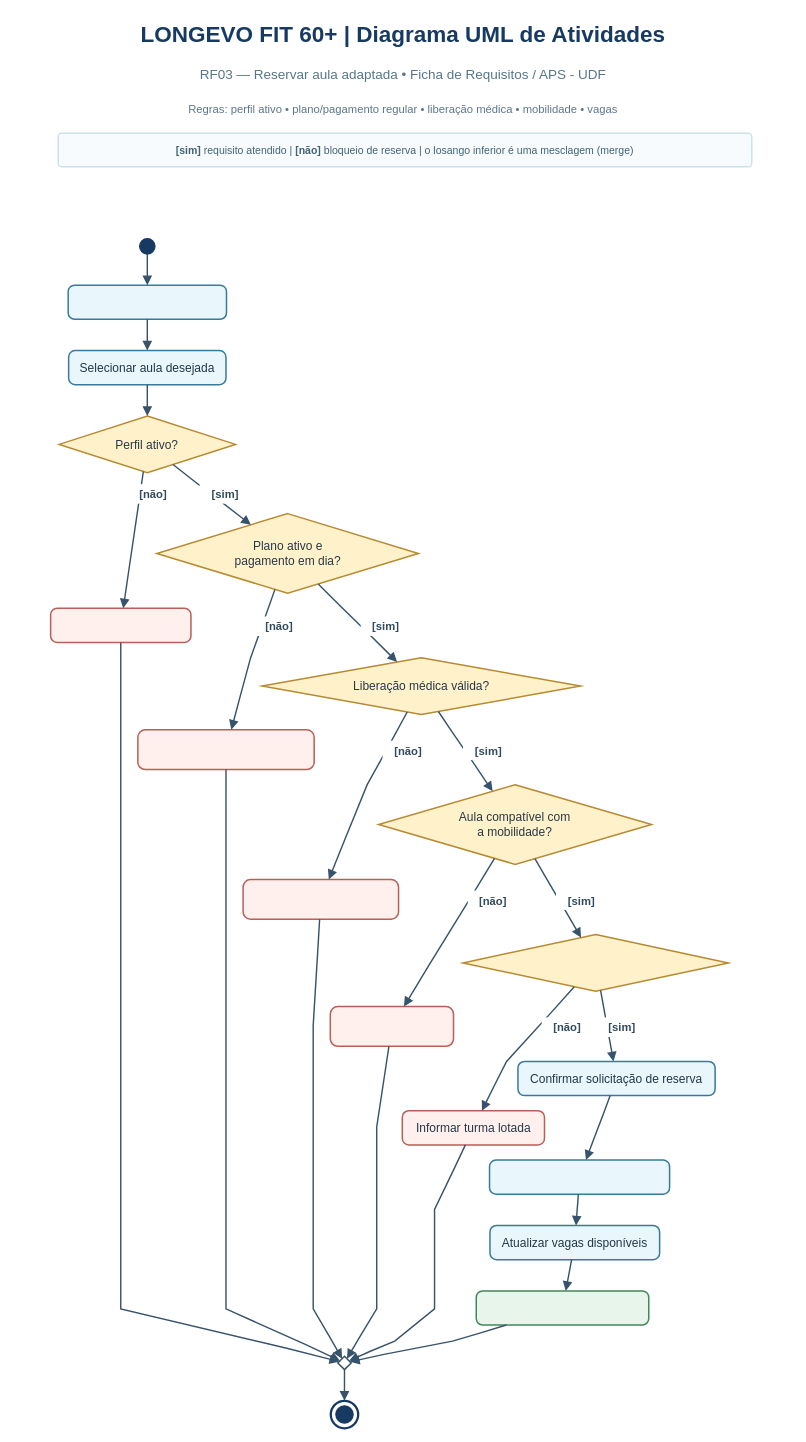
The diagram is 806 pixels wide and 1442 high, and some of its shapes have lost their labels. The box of each missing label's shape, as (x1, y1, x2, y2) in pixels:
Bloquear e sugerir aulas compatíveis: (329, 1005, 454, 1047)
Consultar grade de aulas: (67, 284, 227, 320)
Exibir confirmação ao aluno: (475, 1290, 649, 1325)
Há vaga disponível?: (462, 933, 729, 992)
Informar necessidade de liberação médica: (242, 878, 399, 920)
Informar pendência do plano ou pagamento: (137, 729, 315, 770)
Informar perfil inativo: (50, 607, 191, 643)
Registrar reserva confirmada: (488, 1159, 670, 1195)
